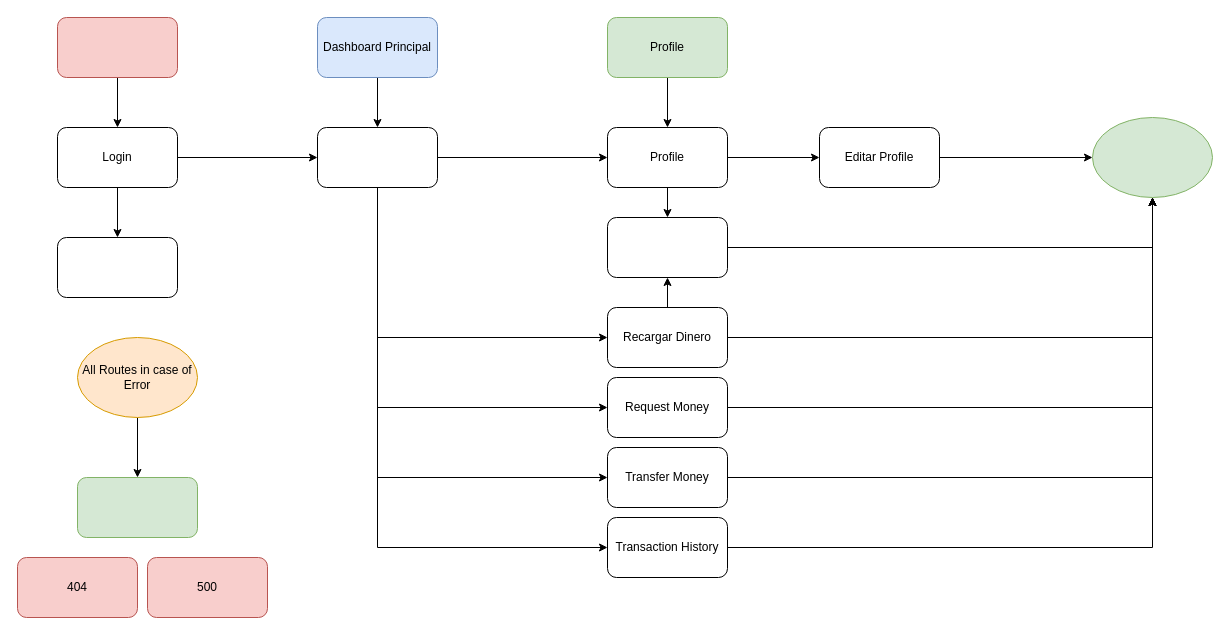
Image size: 1230x635. Some labels were removed from this diagram. The box of each missing label's shape, as (x1, y1, x2, y2) in pixels:
Authentication: (56, 16, 178, 78)
Cards: (606, 216, 728, 278)
Dashboard: (316, 126, 438, 188)
Errors: (76, 476, 198, 538)
Redirect Dashboard: (1092, 116, 1212, 198)
Register: (56, 236, 178, 298)
